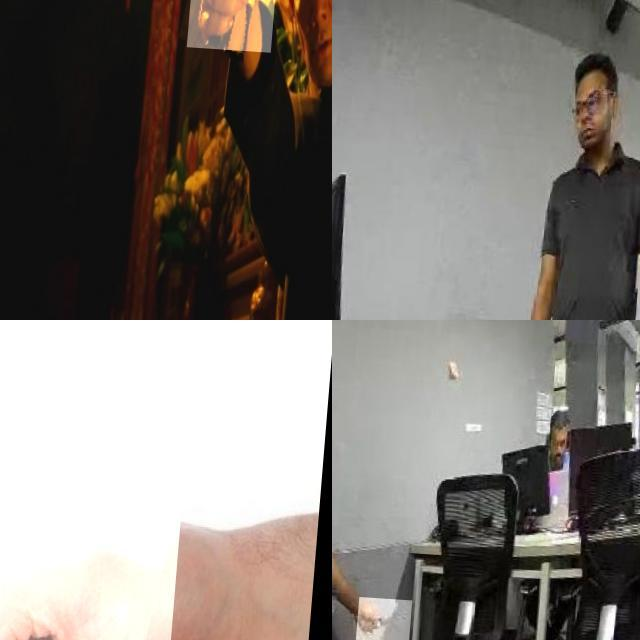-: (0, 320, 250, 640), (366, 592, 422, 639)
gun-knife-thesis - v11 Yolov5 augmented: (191, 0, 291, 120)
